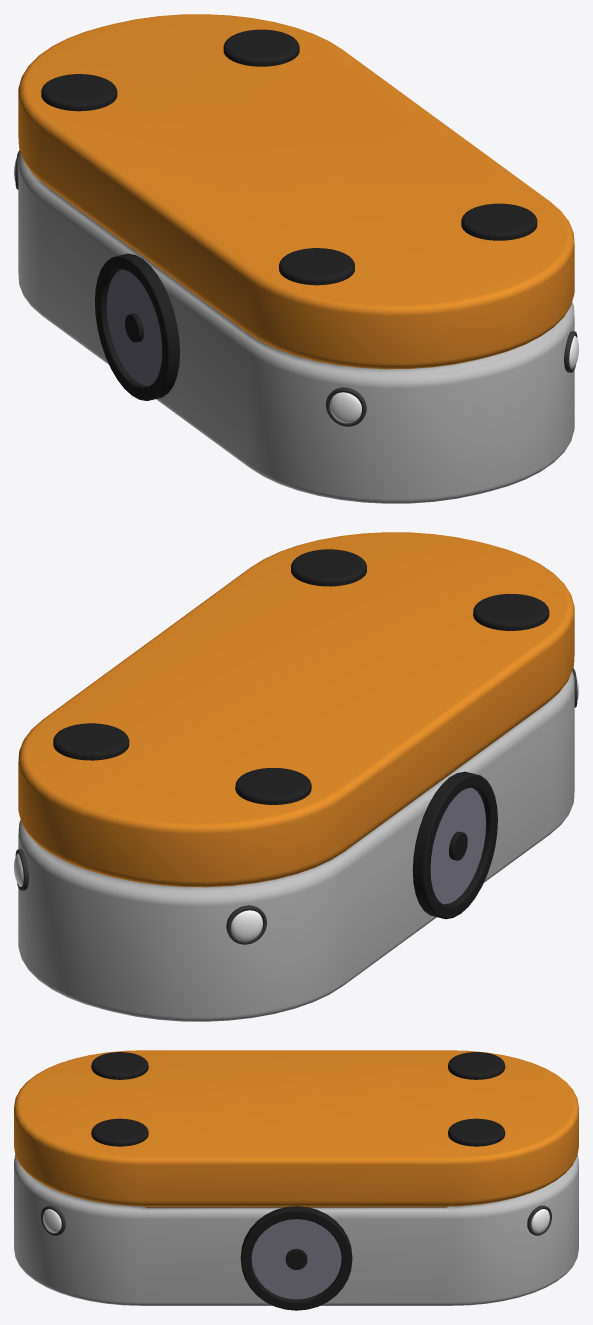
The model's file is dipanrobo.glb.
The picture shows the model from 3 angles, top to bottom: view 1: azimuth 30°, elevation 25°; view 2: azimuth 150°, elevation 25°; view 3: azimuth 270°, elevation 25°; orthographic projection. The views are drawn at different scales.
Visible parts, largest first — view 1: dipanrobo_cs, dipanrobo_fhd, dipanrobo_lt, dipanrobo_lp, Sphere, dipanrobo_sxt; view 2: dipanrobo_cs, dipanrobo_fhd, dipanrobo_lt, dipanrobo_lp, Sphere, dipanrobo_sxt; view 3: dipanrobo_cs, dipanrobo_lp, dipanrobo_fhd, dipanrobo_lt, Sphere, dipanrobo_sxt.
Boxes of the visible parts, x1,y1,x2,y2 form: dipanrobo_cs: [18, 14, 574, 503]; dipanrobo_fhd: [41, 29, 537, 285]; dipanrobo_lt: [95, 253, 179, 400]; dipanrobo_lp: [106, 269, 162, 386]; Sphere: [14, 158, 578, 423]; dipanrobo_sxt: [15, 150, 577, 426]; dipanrobo_cs: [18, 532, 574, 1021]; dipanrobo_fhd: [53, 549, 549, 804]; dipanrobo_lt: [412, 771, 497, 919]; dipanrobo_lp: [430, 787, 485, 904]; Sphere: [14, 676, 578, 941]; dipanrobo_sxt: [15, 668, 577, 944]; dipanrobo_cs: [14, 1050, 578, 1305]; dipanrobo_lp: [251, 1219, 341, 1299]; dipanrobo_fhd: [91, 1052, 505, 1146]; dipanrobo_lt: [240, 1206, 352, 1310]; Sphere: [43, 1209, 549, 1233]; dipanrobo_sxt: [41, 1205, 551, 1235].
Bounding box in the file's own units: 2.09 × 1.24 × 4.12.
